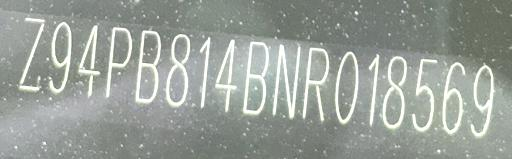letter: (272, 42, 302, 121), (301, 44, 331, 123), (332, 47, 360, 126), (164, 31, 192, 110), (242, 39, 270, 118), (411, 55, 439, 132), (18, 13, 46, 90), (104, 24, 132, 101), (46, 19, 74, 94), (134, 29, 162, 104), (212, 36, 238, 115), (382, 53, 408, 130), (470, 63, 496, 138), (442, 59, 466, 138), (76, 23, 100, 96), (364, 52, 380, 127), (196, 35, 212, 110)
